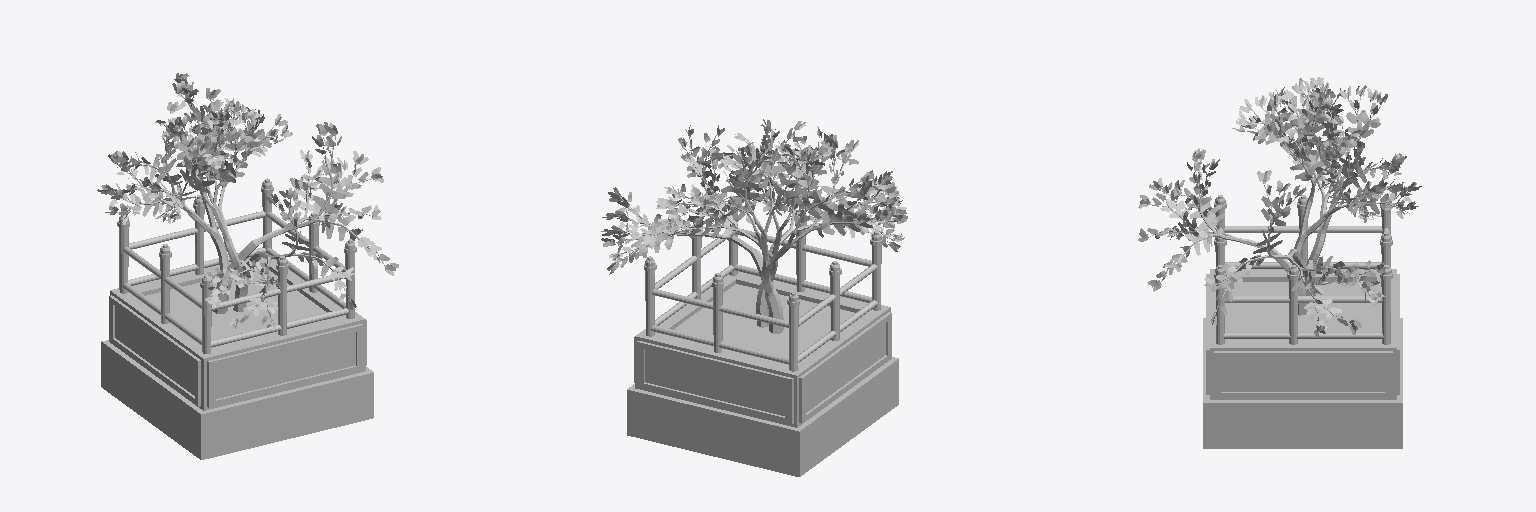
File: decimatedplant0.9.obj
The picture shows the model from 3 angles: view 1: azimuth 30°, elevation 25°; view 2: azimuth 150°, elevation 25°; view 3: azimuth 270°, elevation 25°; orthographic projection.
Visible parts, largest first — view 1: objPlant.002; view 2: objPlant.002; view 3: objPlant.002.
Part boxes in pixels (x1,y1,x2,y2): objPlant.002: (97,73,398,459); objPlant.002: (601,119,907,476); objPlant.002: (1138,77,1421,448).
Bounding box in the file's own units: 0.5649 × 0.5844 × 0.4797.